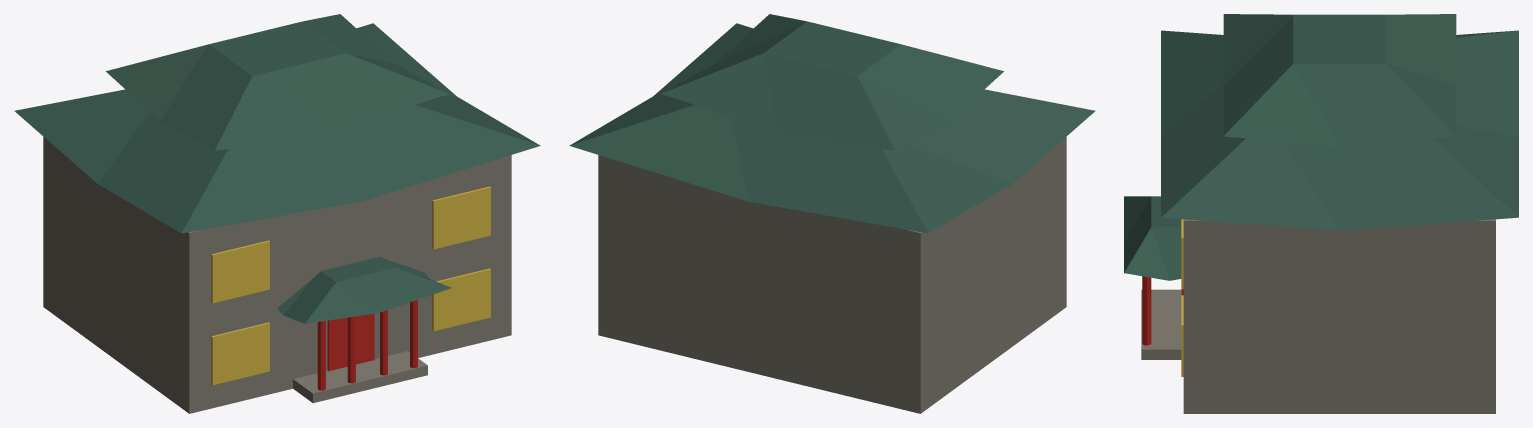
Rendered from building_westyork_s2_fusion_manor.glb.
3 views of the same model, side by side, from view 1: azimuth 30°, elevation 25°; view 2: azimuth 150°, elevation 25°; view 3: azimuth 270°, elevation 25° (orthographic). The views are drawn at different scales.
Parts seen in each view (by area): view 1: building_westyork_s2_fusion_manor; view 2: building_westyork_s2_fusion_manor; view 3: building_westyork_s2_fusion_manor.
Boxes of the visible parts, x1,y1,x2,y2 form: building_westyork_s2_fusion_manor: [14, 14, 540, 413]; building_westyork_s2_fusion_manor: [569, 14, 1095, 413]; building_westyork_s2_fusion_manor: [1124, 14, 1518, 413].
Size of the model in its own units: 15.6 by 11.3 by 13.9.
Materials: 1 (1 with a texture image).
